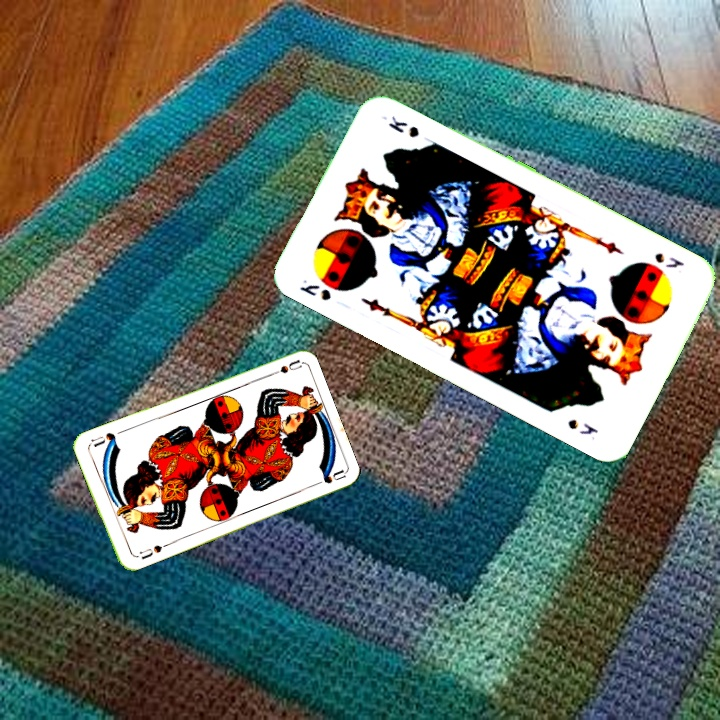SK: (295, 275, 334, 304), (650, 248, 688, 271)
SU: (263, 356, 303, 379), (135, 541, 165, 562)
